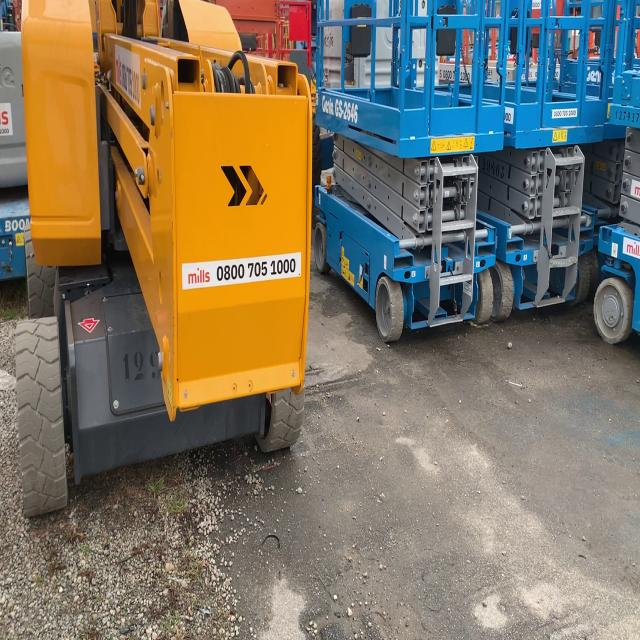Adesivo Longo: (180, 250, 302, 292)
